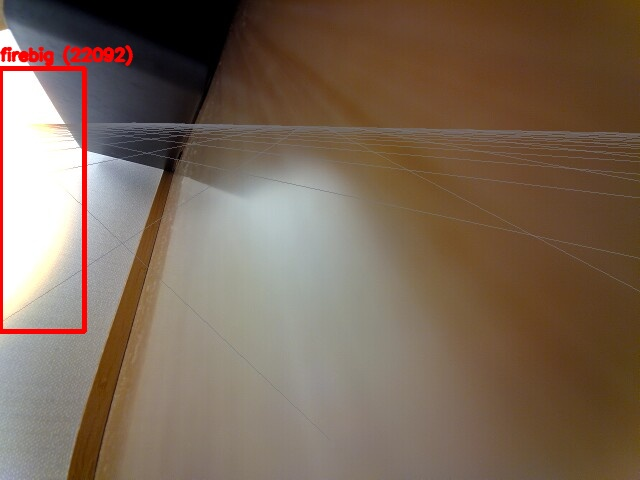firebig: (0, 68, 84, 331)
